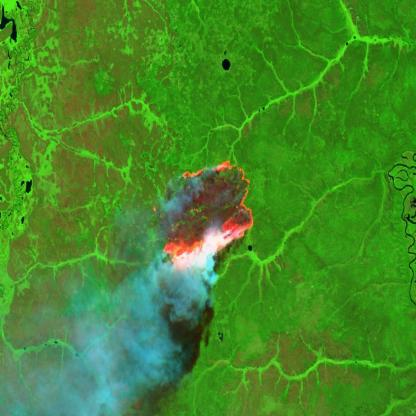fire: (153, 158, 257, 280)
